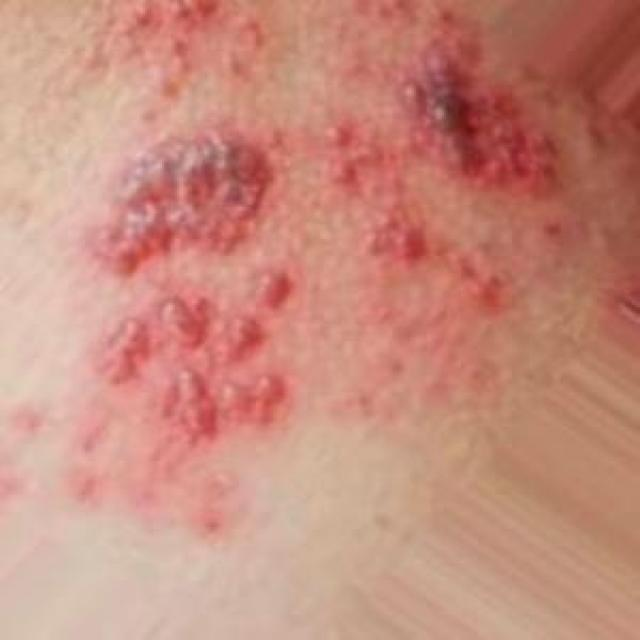Shingles: (50, 3, 552, 450)
